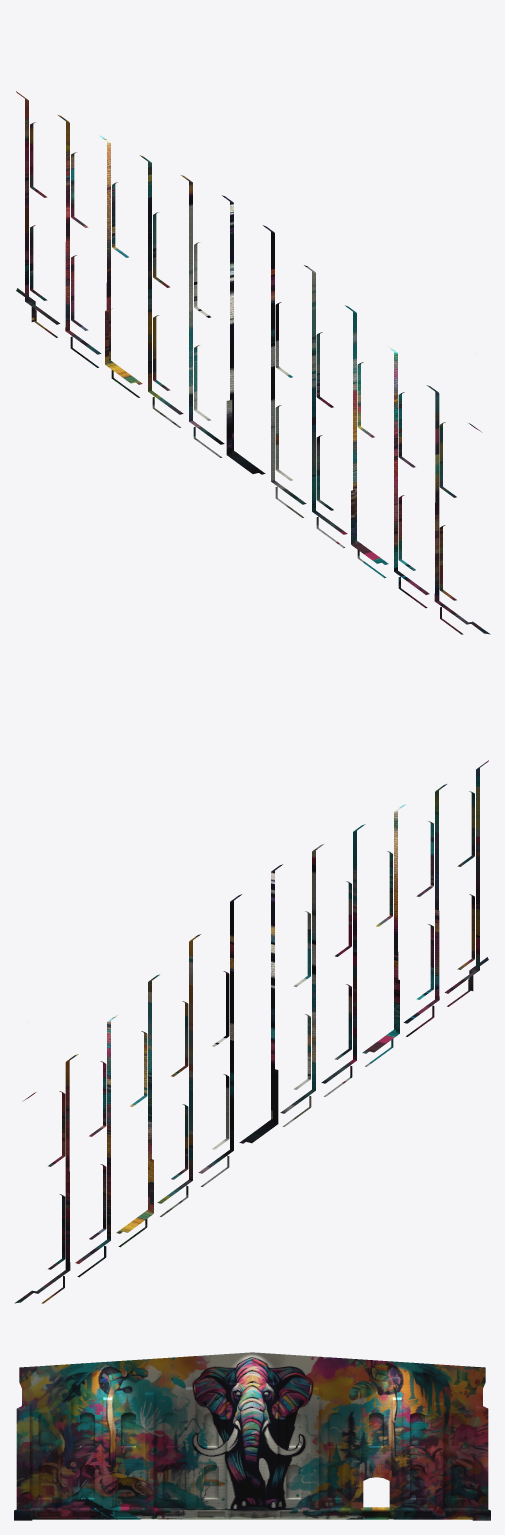
Rendered from frontwall.glb.
3 views of the same model, one above another, from view 1: azimuth 30°, elevation 25°; view 2: azimuth 150°, elevation 25°; view 3: azimuth 270°, elevation 25° (orthographic). The views are drawn at different scales.
Visible parts, largest first — view 1: FrontWall.Right, FrontWall.Left; view 2: FrontWall.Left, FrontWall.Right; view 3: FrontWall.Left, FrontWall.Right.
Boxes of the visible parts, bbox=[...] form: FrontWall.Right: bbox=[16, 91, 249, 464]; FrontWall.Left: bbox=[240, 225, 490, 634]; FrontWall.Left: bbox=[255, 760, 488, 1133]; FrontWall.Right: bbox=[14, 894, 264, 1303]; FrontWall.Left: bbox=[14, 1352, 252, 1520]; FrontWall.Right: bbox=[252, 1352, 490, 1520].
Size of the model in its own units: 1.49 by 32.05 by 83.4.
2 materials, 2 textured.
